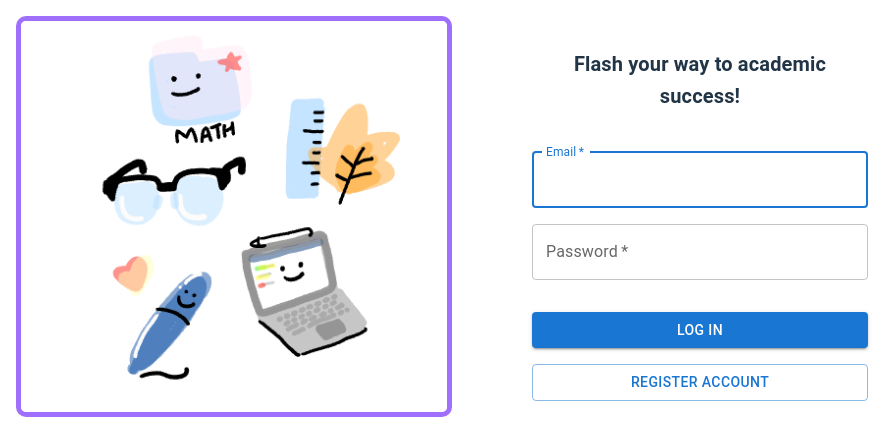
Test: LoginPage › shows an error if login fails
Type "wrong@example.com" into the field labelled "Email *" at (700, 180), box [532, 152, 868, 208]
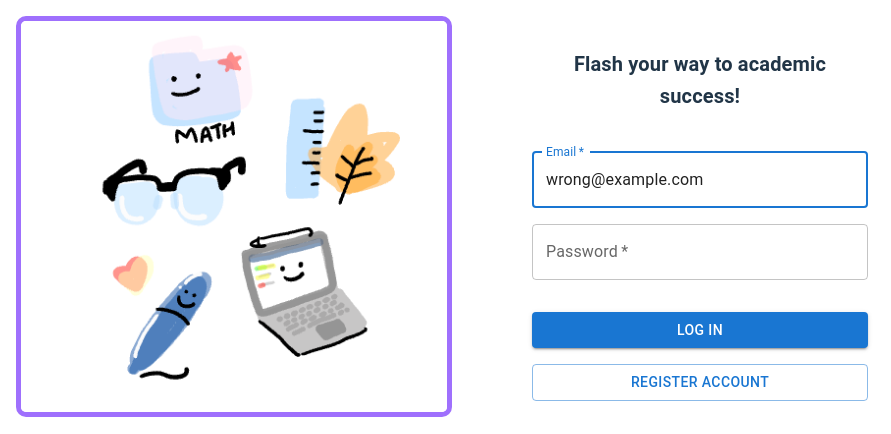
Type "wrongpassword" into the password field labelled "Password *" at (700, 252), box [532, 224, 868, 280]
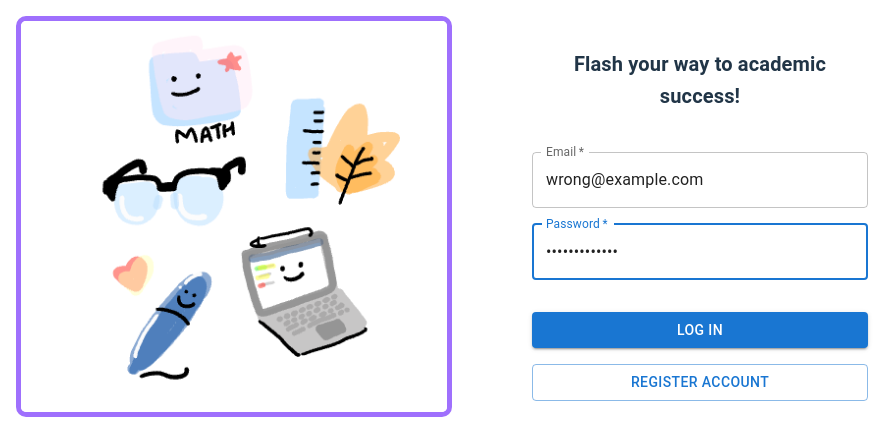
Click the button "Log In" at (700, 330), box [532, 312, 868, 348]
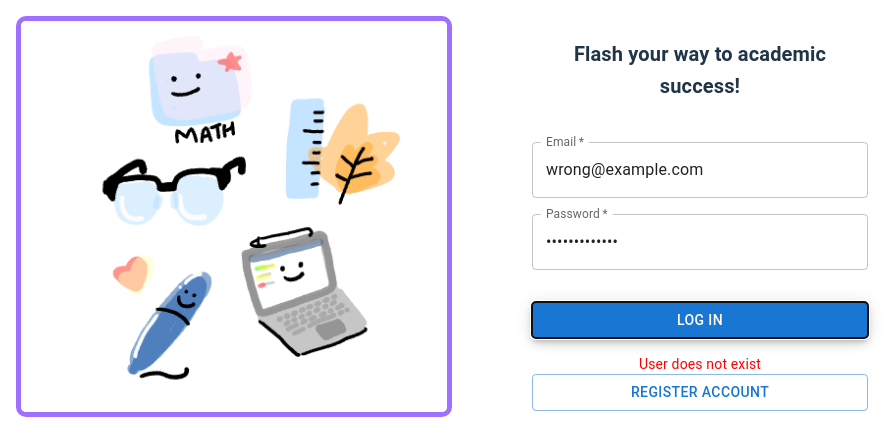
Check: the text "User does not exist" is shown, box [639, 356, 761, 372]
